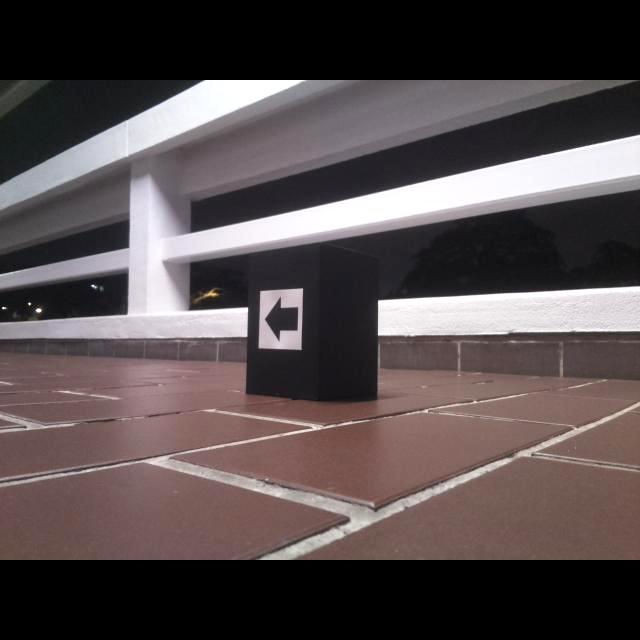LEFT: (263, 295, 298, 343)
